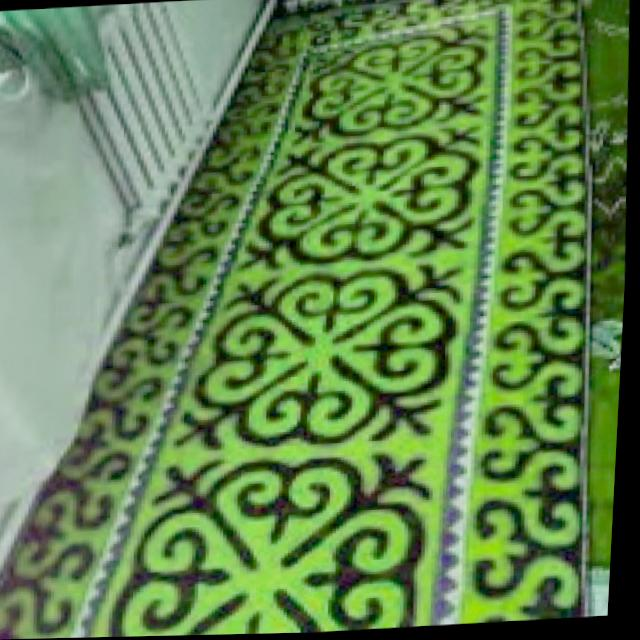Unity: (84, 450, 446, 637), (162, 258, 469, 452), (229, 125, 485, 275), (286, 18, 489, 151)
